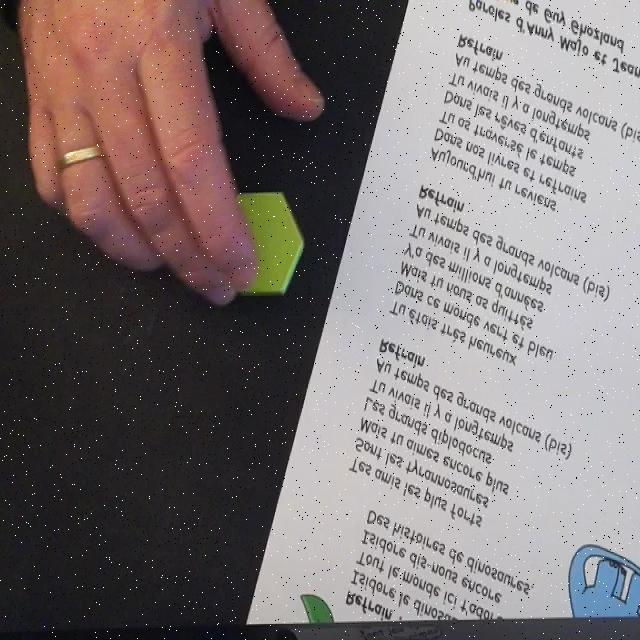hexagon: (215, 190, 307, 296)
